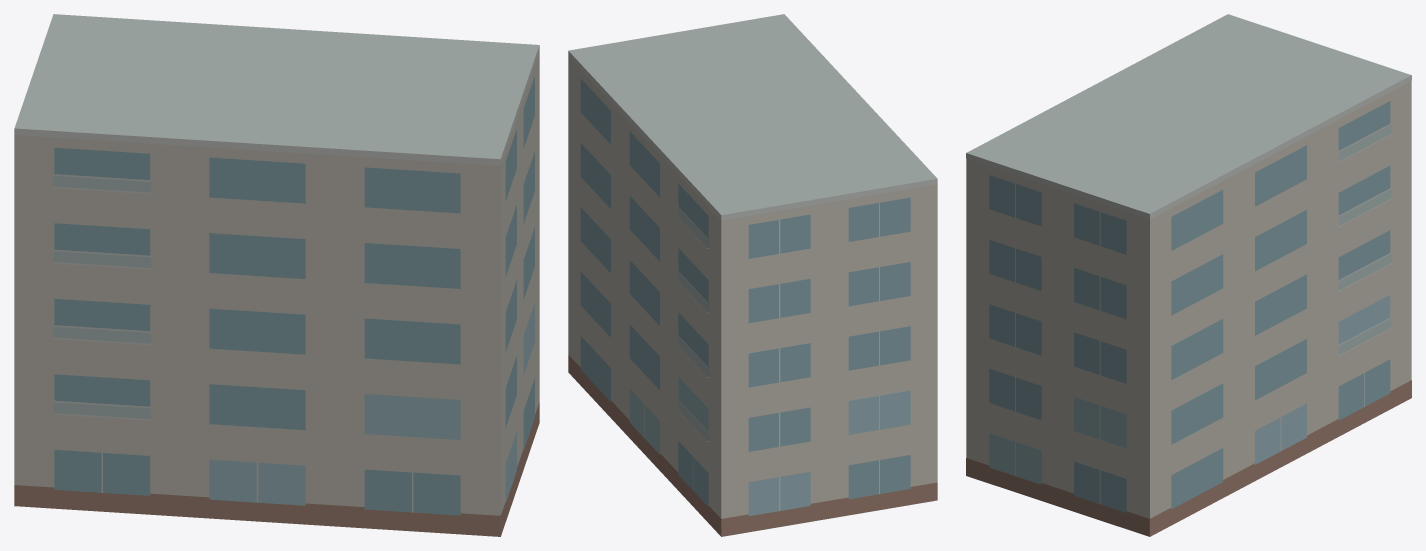
The model's file is survey-upis-32634565.glb.
3 views of the same model, side by side, from view 1: azimuth 30°, elevation 25°; view 2: azimuth 150°, elevation 25°; view 3: azimuth 270°, elevation 25° (orthographic). The views are drawn at different scales.
Visible parts, largest first — view 1: survey-upis-32634565.tmp; view 2: survey-upis-32634565.tmp; view 3: survey-upis-32634565.tmp.
Part boxes in pixels (box(x1,y1,x2,y2)): survey-upis-32634565.tmp: box(14, 14, 539, 536); survey-upis-32634565.tmp: box(568, 14, 937, 536); survey-upis-32634565.tmp: box(966, 14, 1411, 536).
Bounding box in the file's own units: 18.61 × 14 × 17.52.
